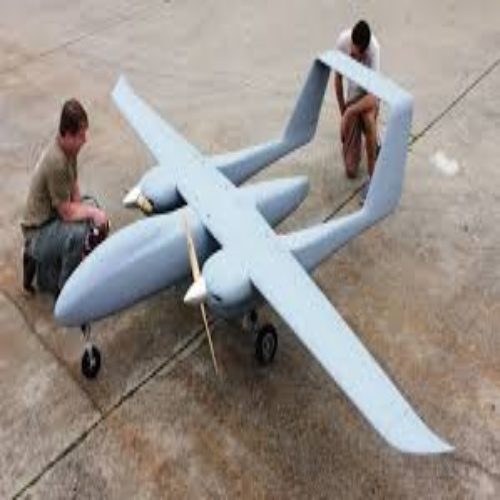uav441: (52, 49, 456, 450)
